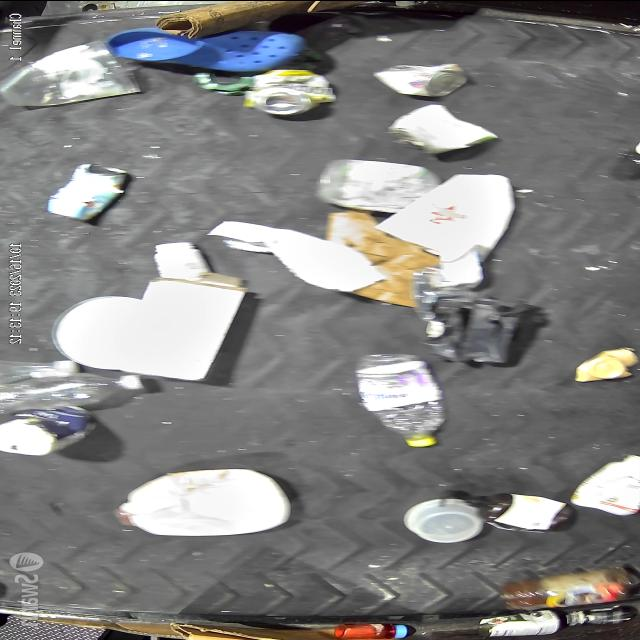can: (314, 159, 442, 215), (384, 102, 496, 156), (237, 66, 339, 116), (372, 60, 469, 97), (477, 608, 562, 640)
milk_jug: (108, 465, 296, 538)
plastic_bottle: (352, 350, 450, 449), (0, 369, 148, 413)
